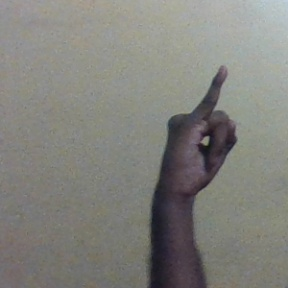I: (161, 55, 252, 194)
